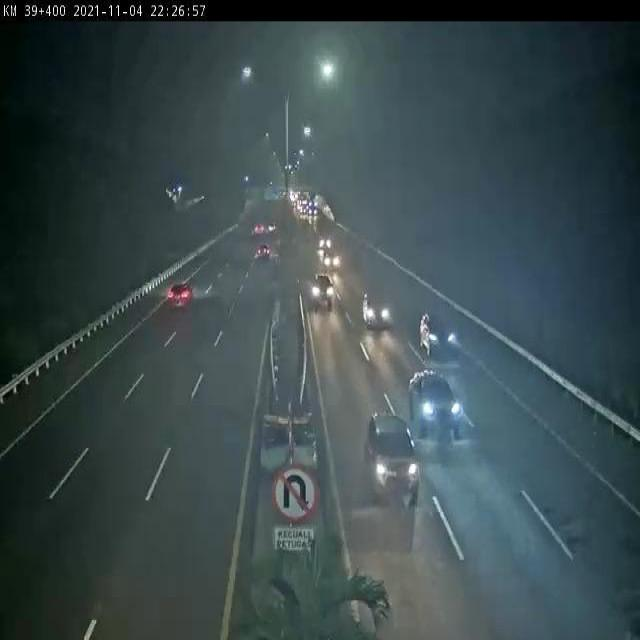car: (365, 411, 420, 504), (408, 369, 461, 439), (420, 312, 460, 359), (363, 285, 392, 328), (311, 273, 333, 308), (167, 284, 192, 311)
